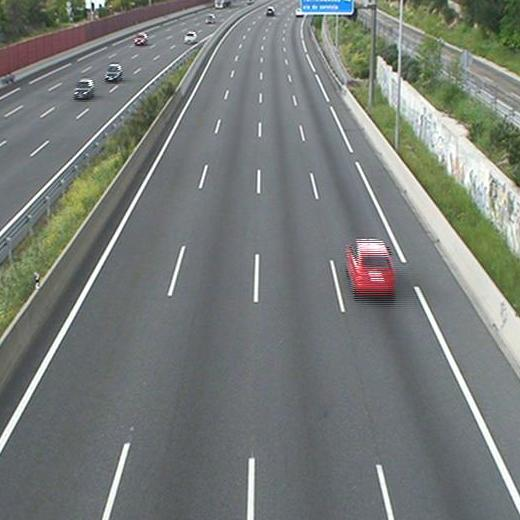car: (346, 240, 394, 292), (266, 7, 274, 16)
